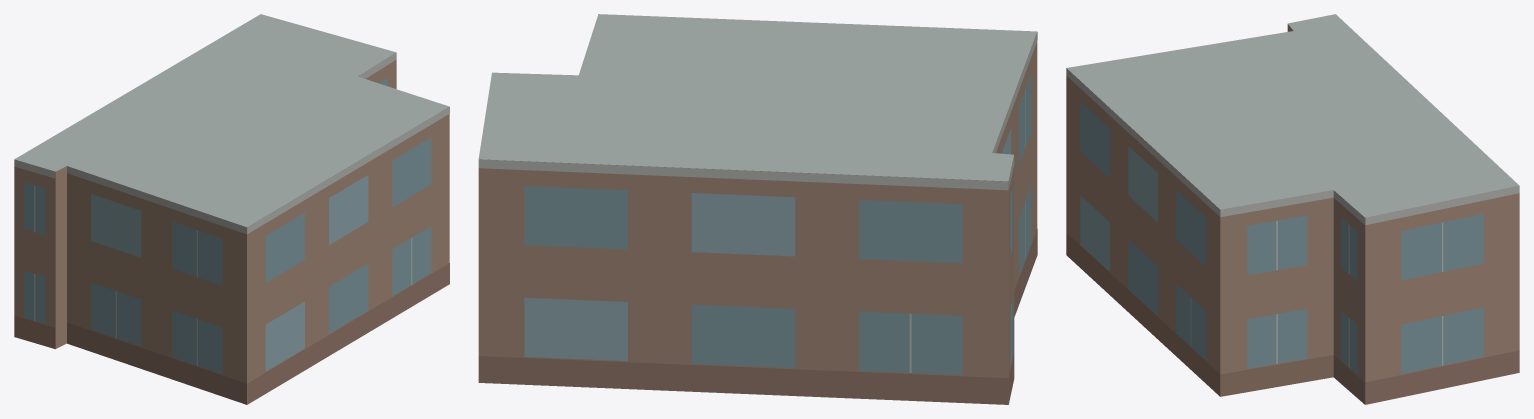
The model's file is survey-upis-32687999.glb.
3 renders of one model, left to right at view 1: azimuth 30°, elevation 25°; view 2: azimuth 150°, elevation 25°; view 3: azimuth 270°, elevation 25°, orthographic. The views are drawn at different scales.
Visible parts, largest first — view 1: survey-upis-32687999.tmp; view 2: survey-upis-32687999.tmp; view 3: survey-upis-32687999.tmp.
Part boxes in pixels (x1=…): survey-upis-32687999.tmp: x1=14, y1=14, x2=449, y2=404; survey-upis-32687999.tmp: x1=478, y1=14, x2=1037, y2=404; survey-upis-32687999.tmp: x1=1066, y1=14, x2=1519, y2=404.
Size of the model in its own units: 14.26 by 6.1 by 13.41.
